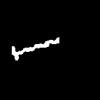half_double_crochet: (12, 38, 58, 59)
